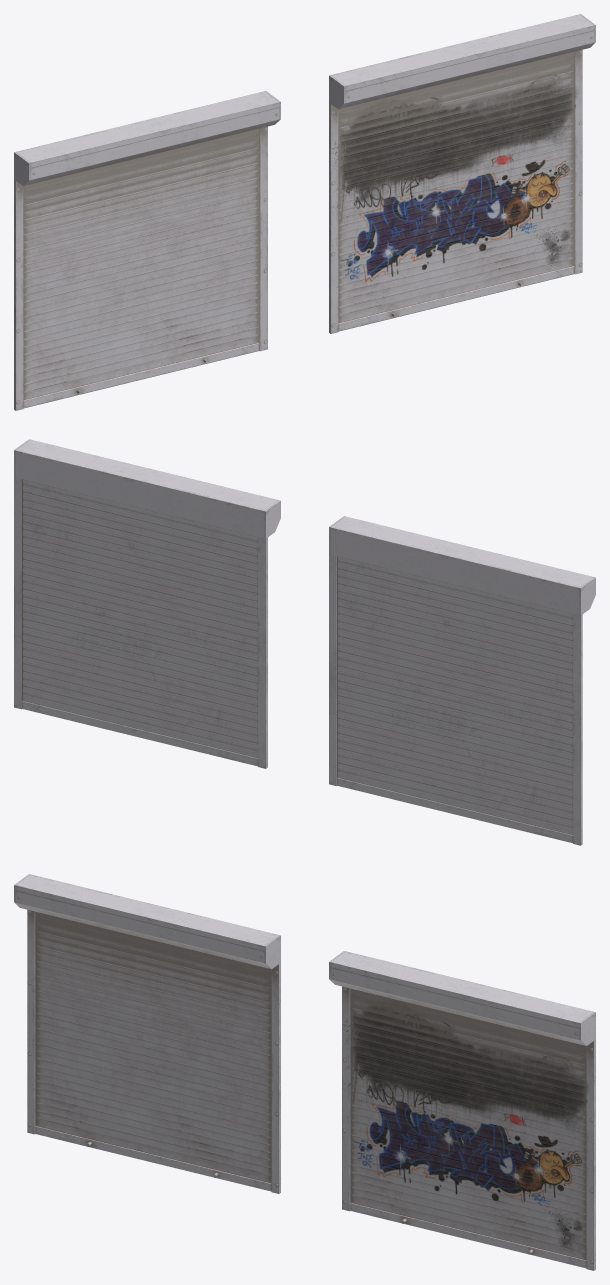
Rendered from rollershutter_window_02.glb.
3 views of the same model, one above another, from view 1: azimuth 30°, elevation 25°; view 2: azimuth 150°, elevation 25°; view 3: azimuth 330°, elevation 25° (orthographic).
Parts seen in each view (by area): view 1: rollershutter_window_02_graffiti, rollershutter_window_02; view 2: rollershutter_window_02, rollershutter_window_02_graffiti; view 3: rollershutter_window_02, rollershutter_window_02_graffiti.
Boxes of the visible parts, x1,y1,x2,y2 form: rollershutter_window_02_graffiti: [329, 14, 595, 333]; rollershutter_window_02: [14, 91, 280, 410]; rollershutter_window_02: [329, 516, 595, 845]; rollershutter_window_02_graffiti: [14, 439, 280, 768]; rollershutter_window_02: [14, 874, 280, 1193]; rollershutter_window_02_graffiti: [329, 951, 595, 1270].
Bounding box in the file's own units: 3.6 × 1.56 × 0.1681.
2 materials, 2 textured.
